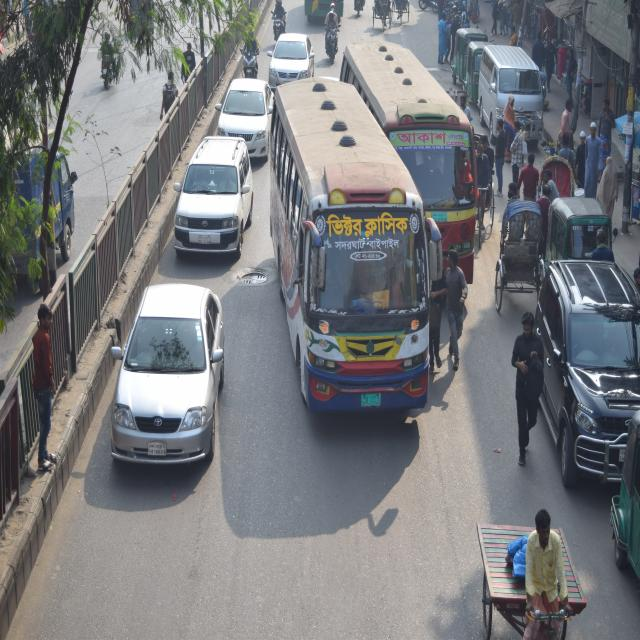bus: (267, 79, 406, 403), (345, 37, 472, 319)
car: (102, 273, 221, 471), (534, 252, 634, 484), (171, 134, 251, 246), (221, 74, 274, 155), (266, 29, 307, 80)
microbus: (476, 41, 540, 152)
motorbike: (321, 23, 340, 74), (239, 49, 261, 91), (266, 7, 284, 48)
